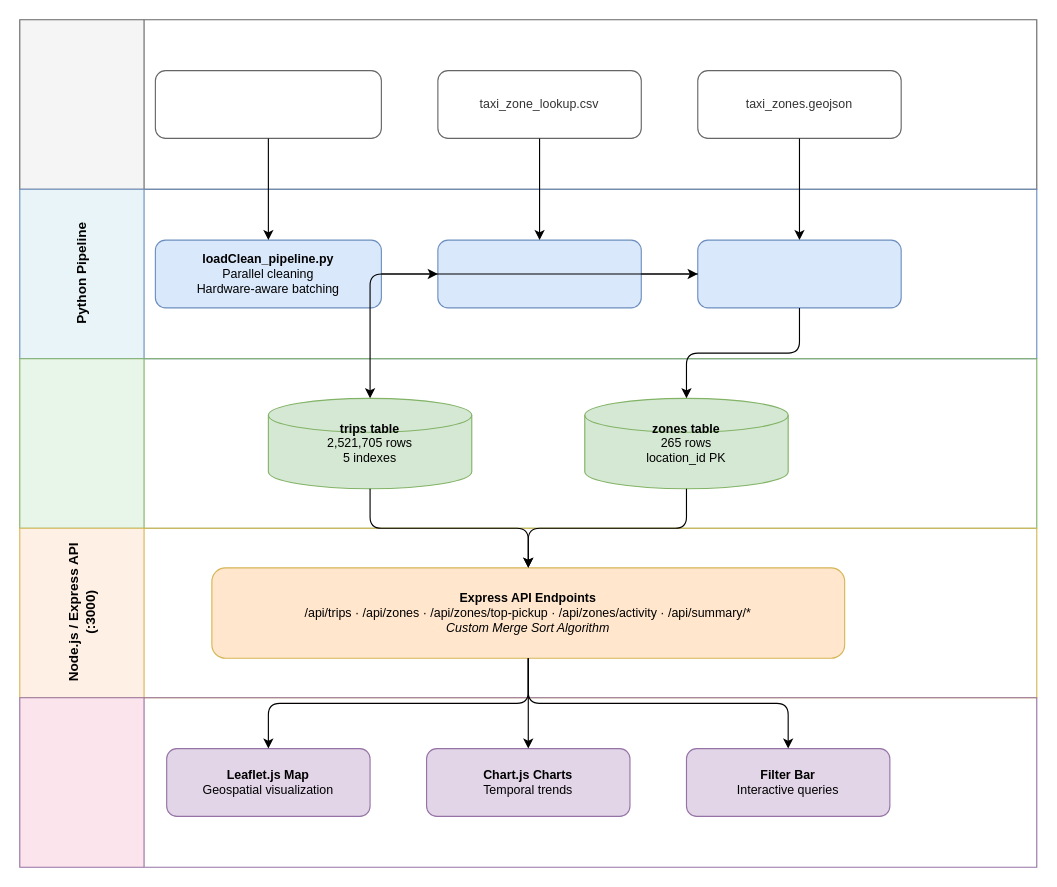
The diagram is 1057 pixels wide and 887 high, and some of its shapes have lost their labels. Here are the shapes that lost their labels. From the top down, the box of each, then its label:
(154, 69, 381, 138): yellow_tripdata_2026-01.parquet
(19, 19, 1037, 189): Raw Data Layer
(437, 239, 641, 308): features.py 5 derived columns
(697, 239, 901, 308): db_insert.py Bulk load Index optimization
(19, 358, 1037, 528): PostgreSQL Database (Docker :5433)
(19, 697, 1037, 867): City Lens Frontend (:8080)
